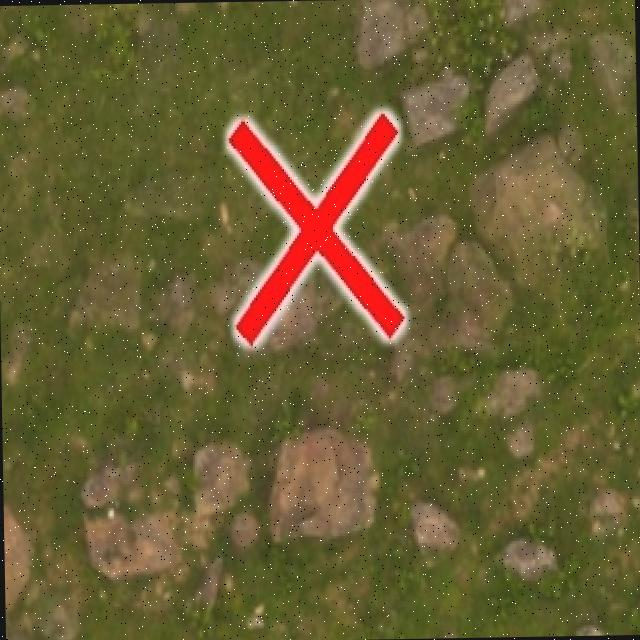x_marker: (228, 112, 404, 341)
